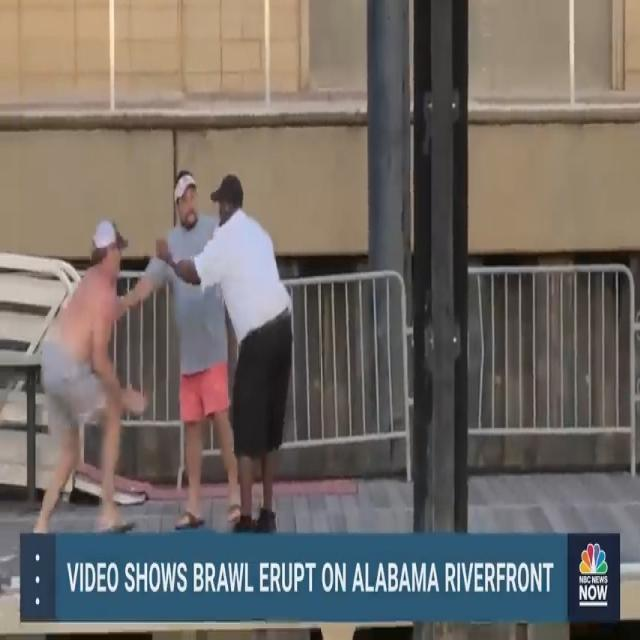fight: (33, 212, 152, 545)
non-fight: (136, 158, 300, 538)
